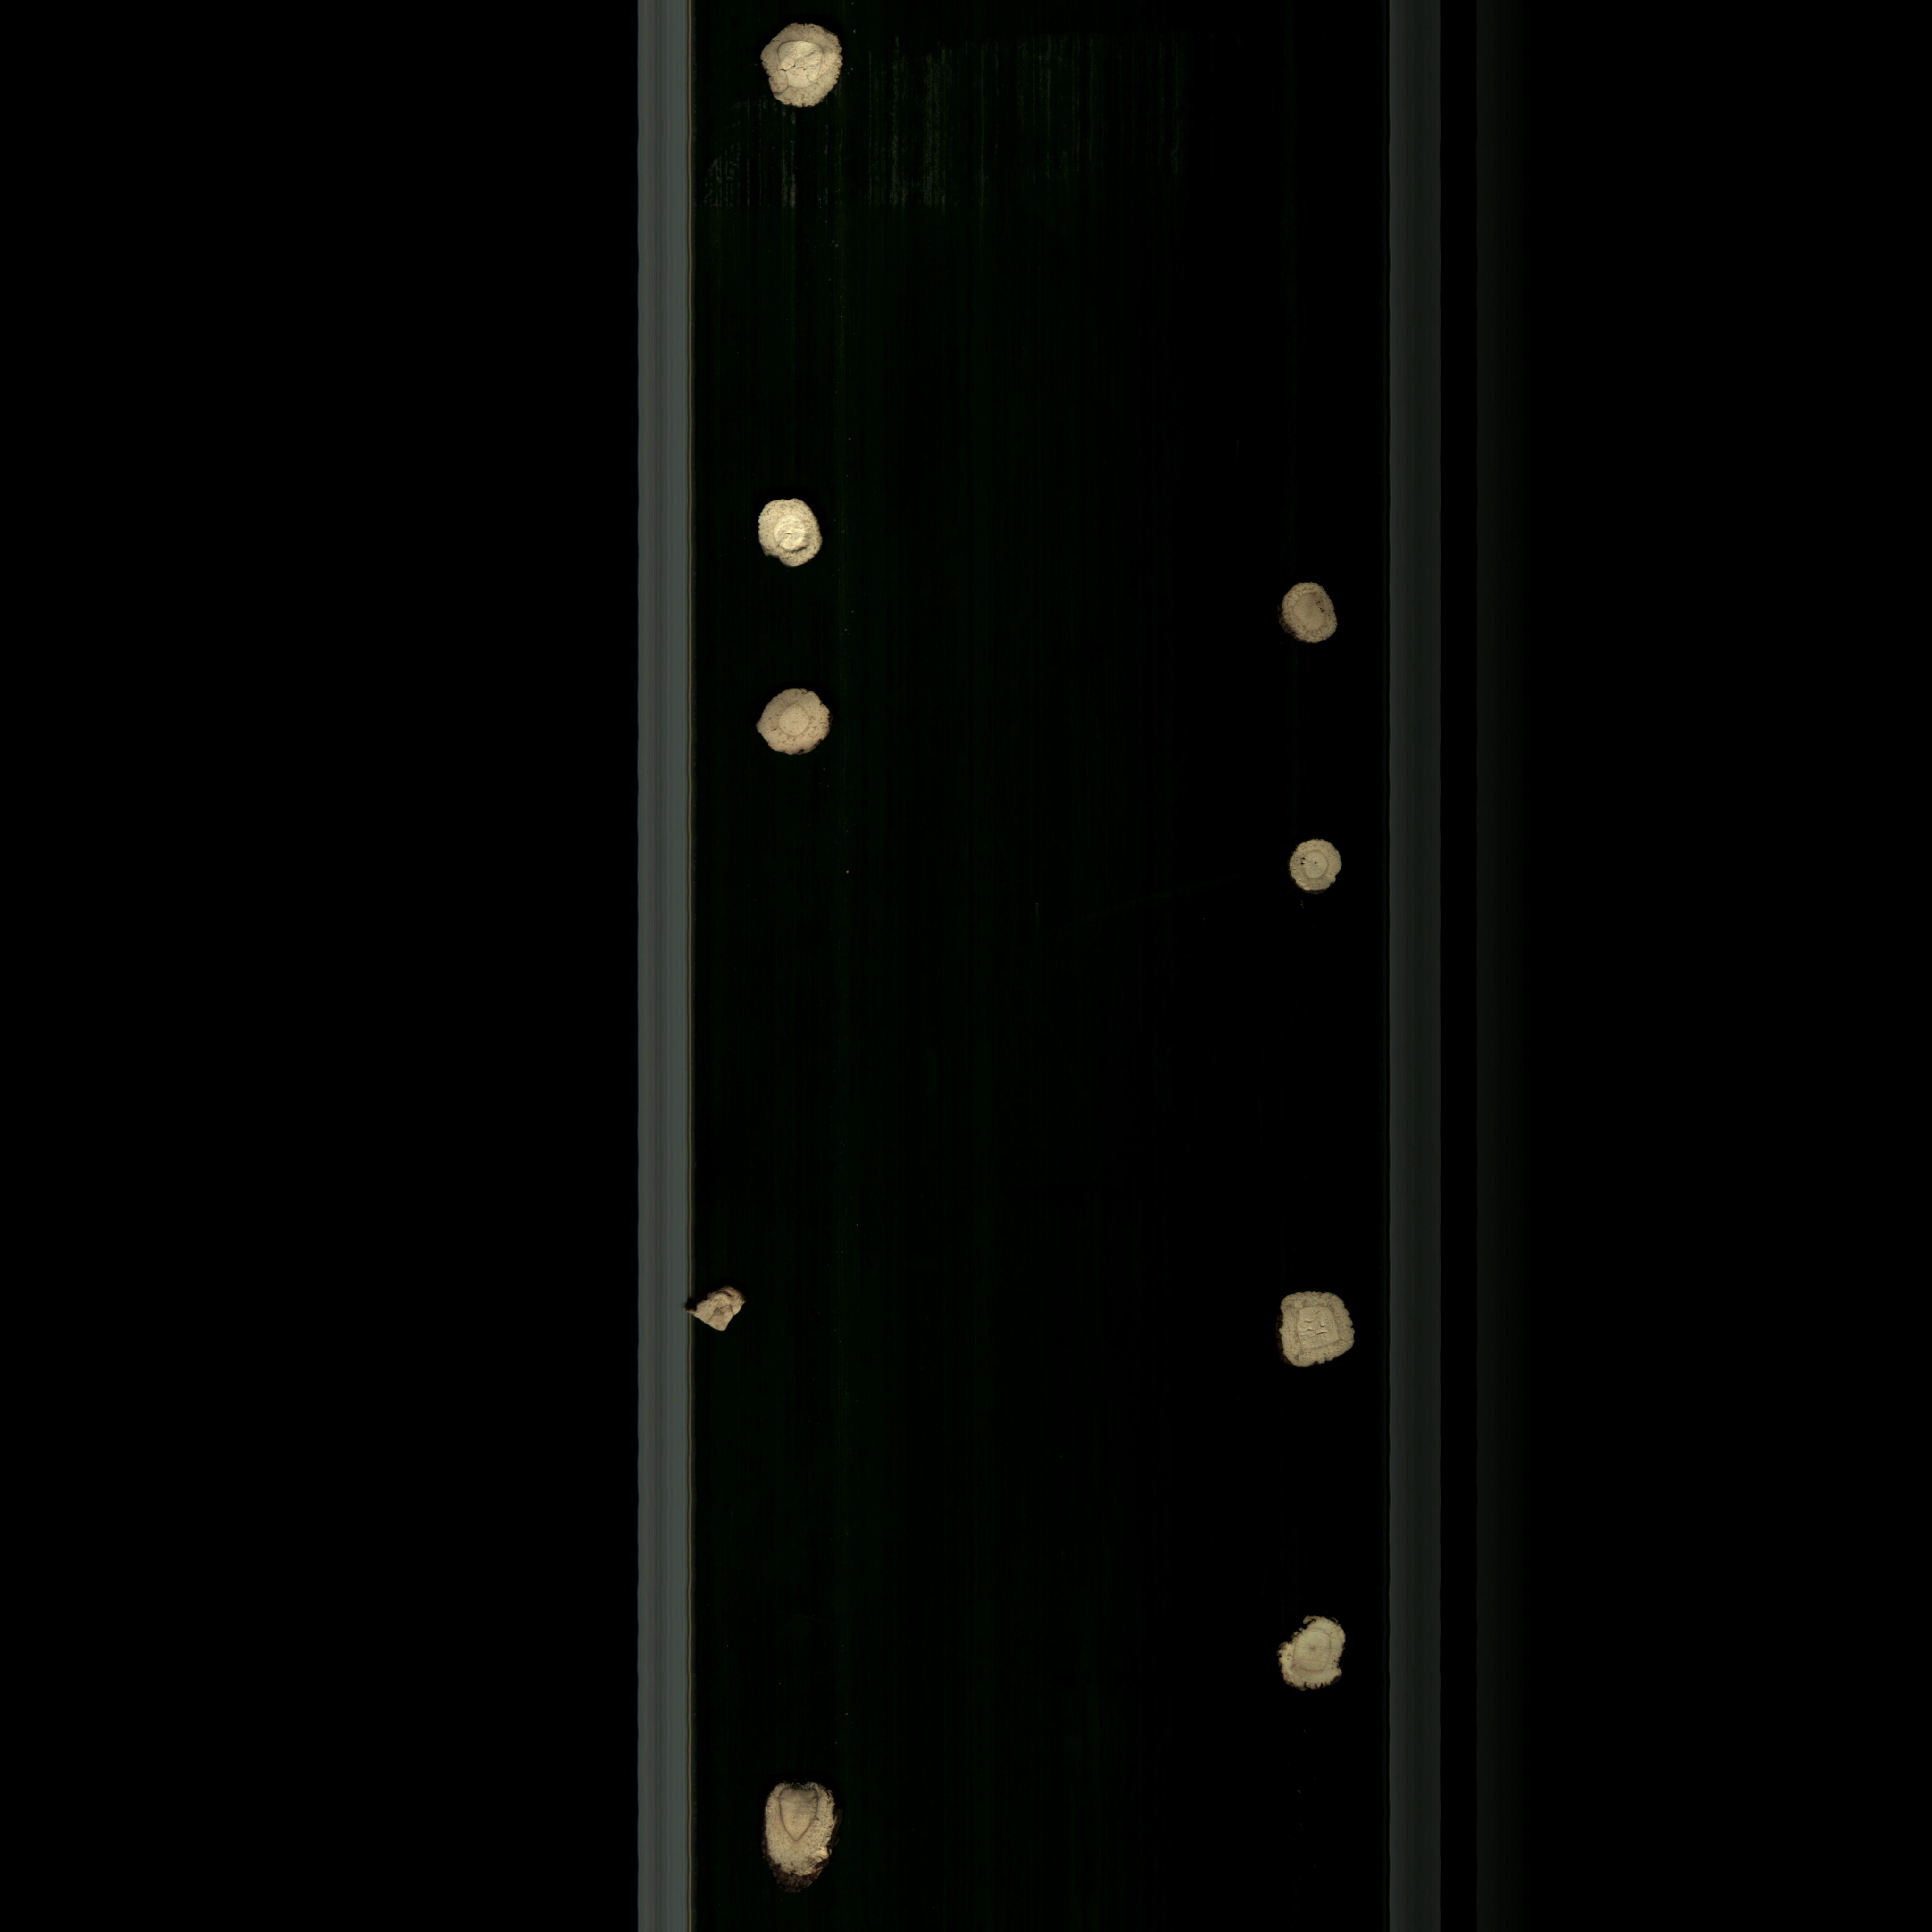debris: (1269, 1610, 1362, 1704)
distortion: (1265, 1284, 1361, 1378)
dreg: (676, 1284, 759, 1343)
hole: (1286, 832, 1343, 904)
moldy: (755, 1771, 844, 1897), (759, 19, 851, 126), (748, 681, 837, 771), (1269, 573, 1348, 653)
